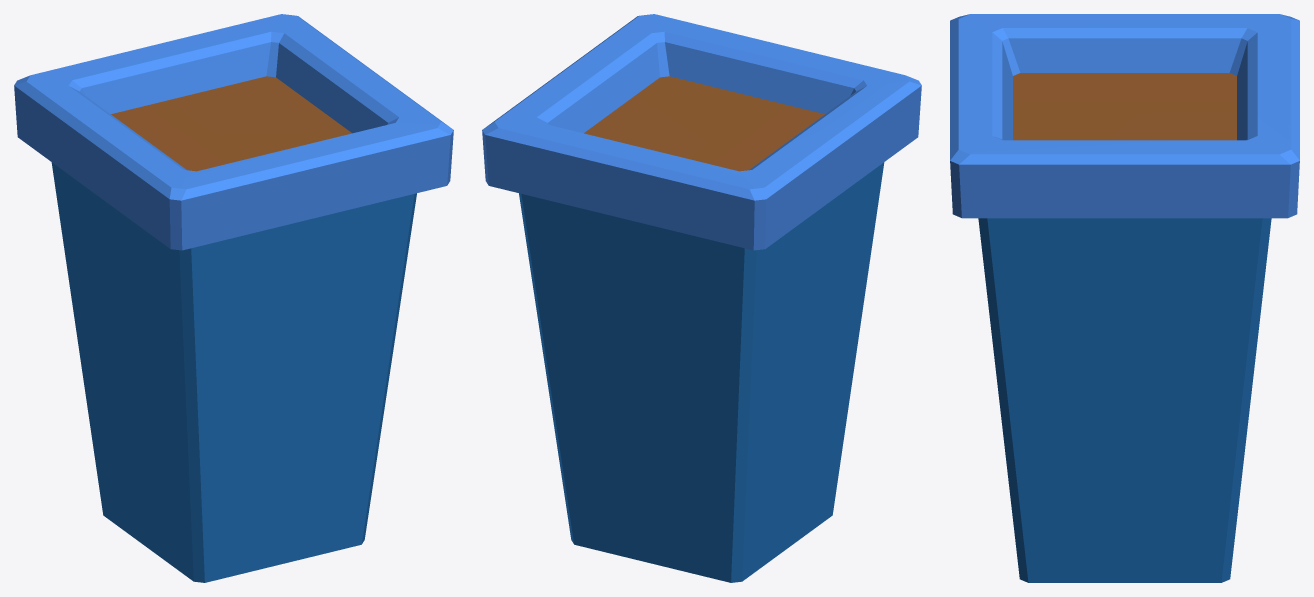
The model's file is PlantPot_2_D.fbx.
3 renders of one model, left to right at view 1: azimuth 30°, elevation 25°; view 2: azimuth 150°, elevation 25°; view 3: azimuth 270°, elevation 25°, orthographic. The views are drawn at different scales.
Visible parts, largest first — view 1: PlantPot_2_D; view 2: PlantPot_2_D; view 3: PlantPot_2_D.
Boxes of the visible parts, bbox=[...] form: PlantPot_2_D: bbox=[14, 14, 453, 582]; PlantPot_2_D: bbox=[482, 14, 921, 582]; PlantPot_2_D: bbox=[950, 14, 1299, 582].
Size of the model in its own units: 36.24 by 51.92 by 36.24.
